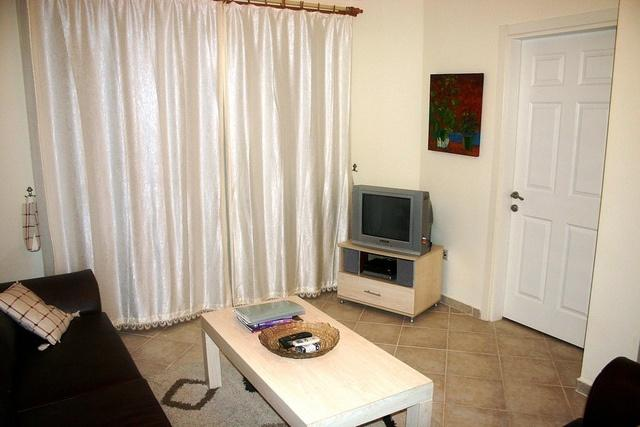Meja: (199, 294, 435, 426)
